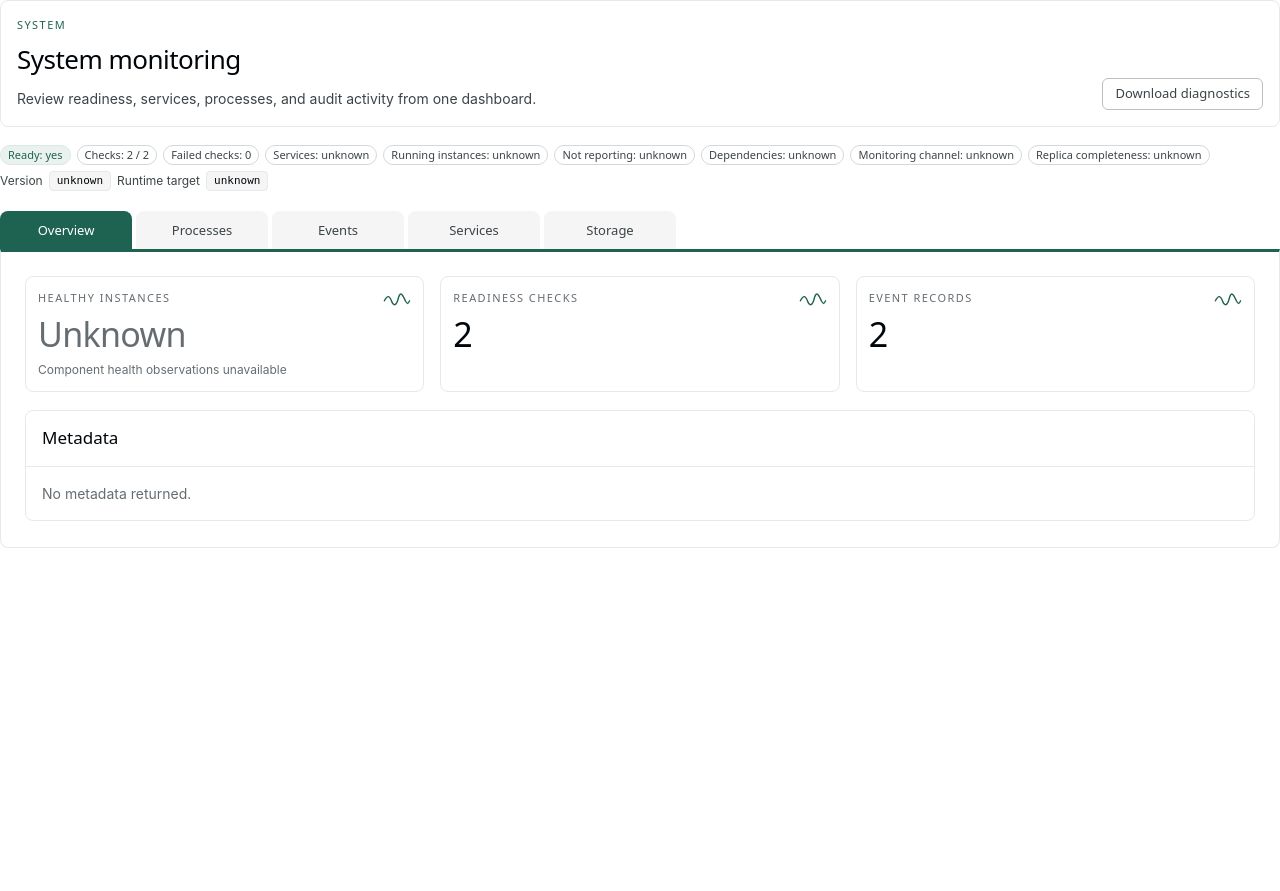
Test: MonitoringPage › does not present container discovery as product monitoring
Expected: the text "Ready: yes" is shown, [0, 145, 70, 165]
Expected: the text "Healthy instances" is shown, [38, 290, 170, 306]
Click the tab "Services": (474, 230) [408, 211, 540, 249]
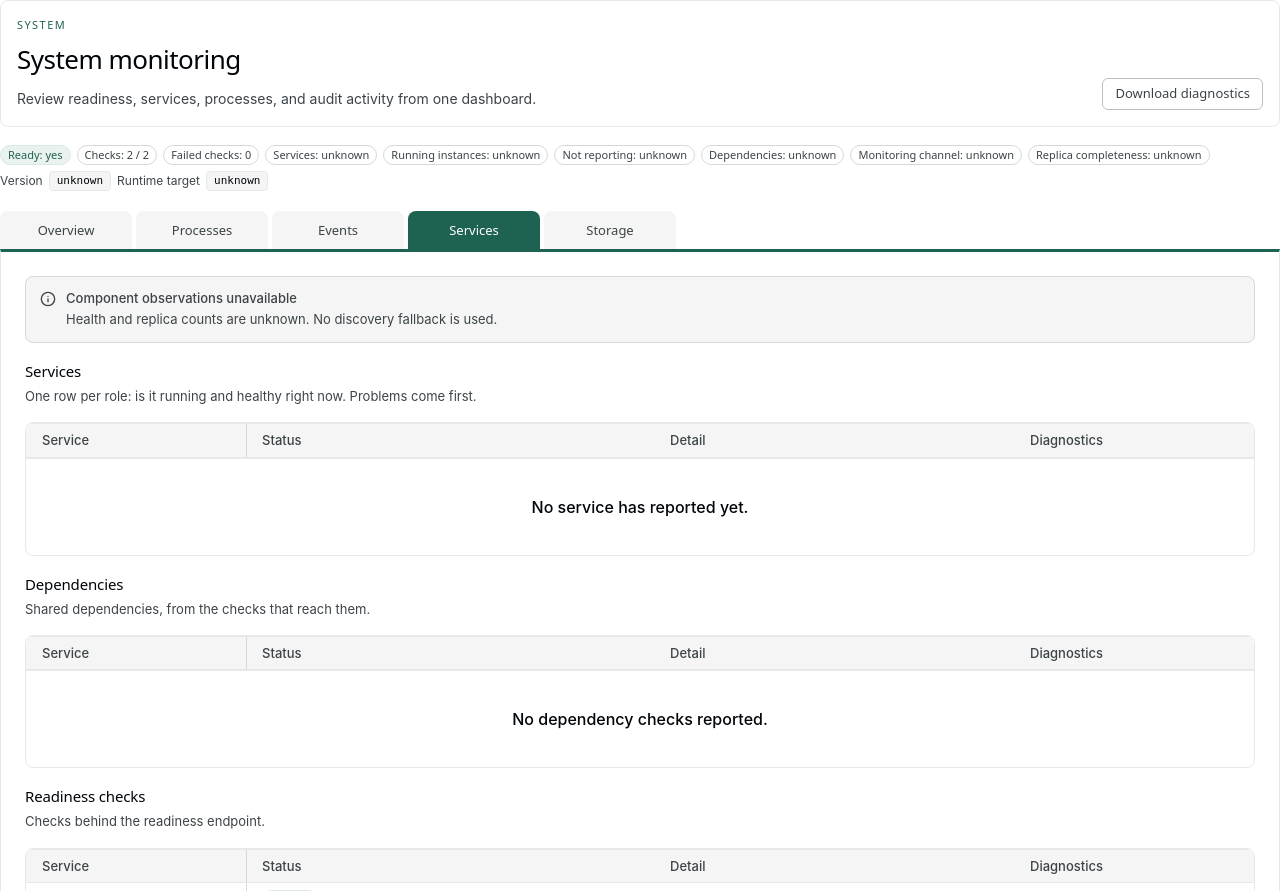
Result: the text "No service has reported yet." is shown at [532, 495, 748, 519]
